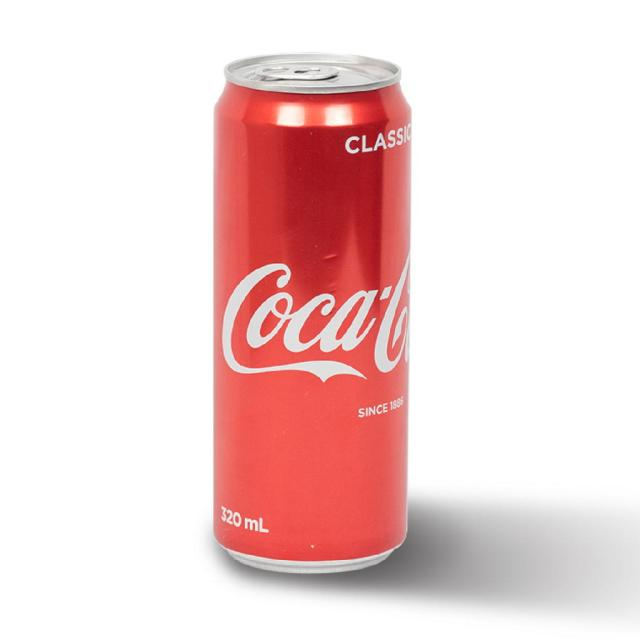cocacola: (208, 48, 412, 584)
